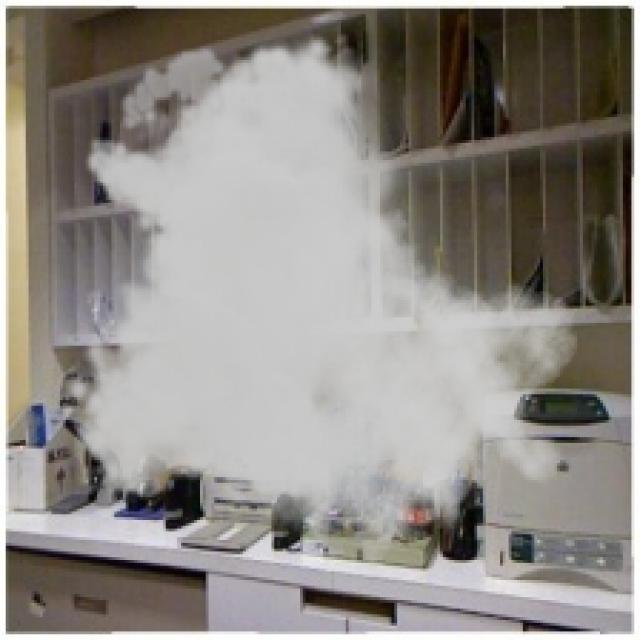smoke: (63, 32, 580, 594)
